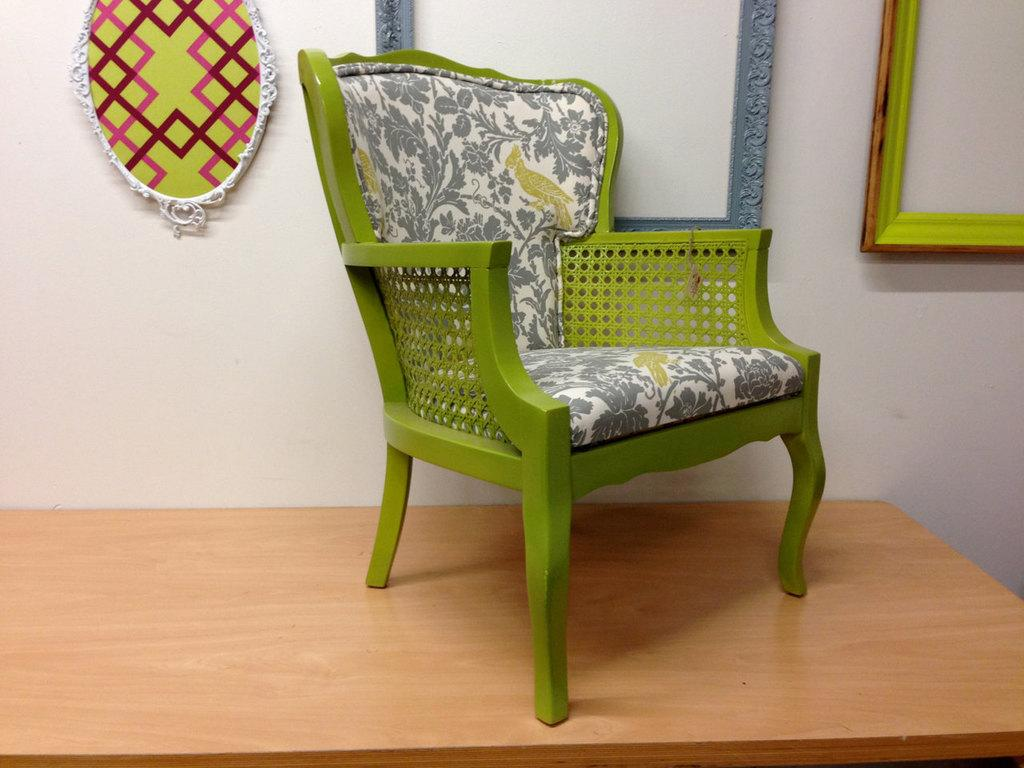Chair: (261, 55, 834, 718)
